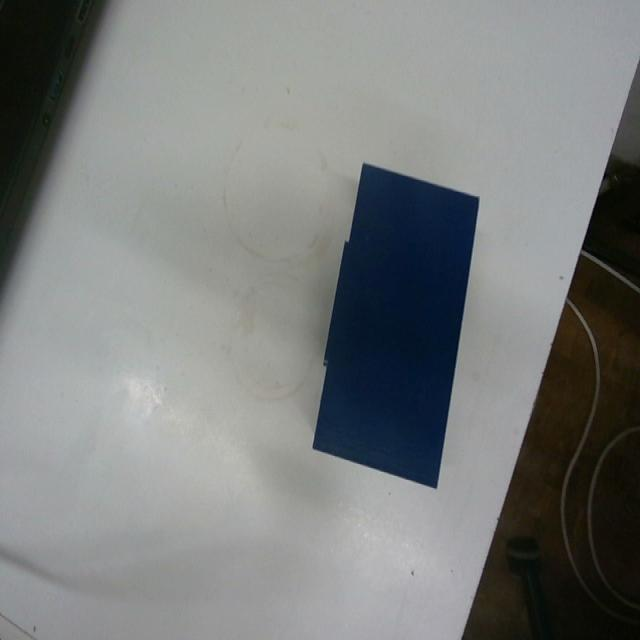Blue Cuboid: (310, 158, 480, 491)
